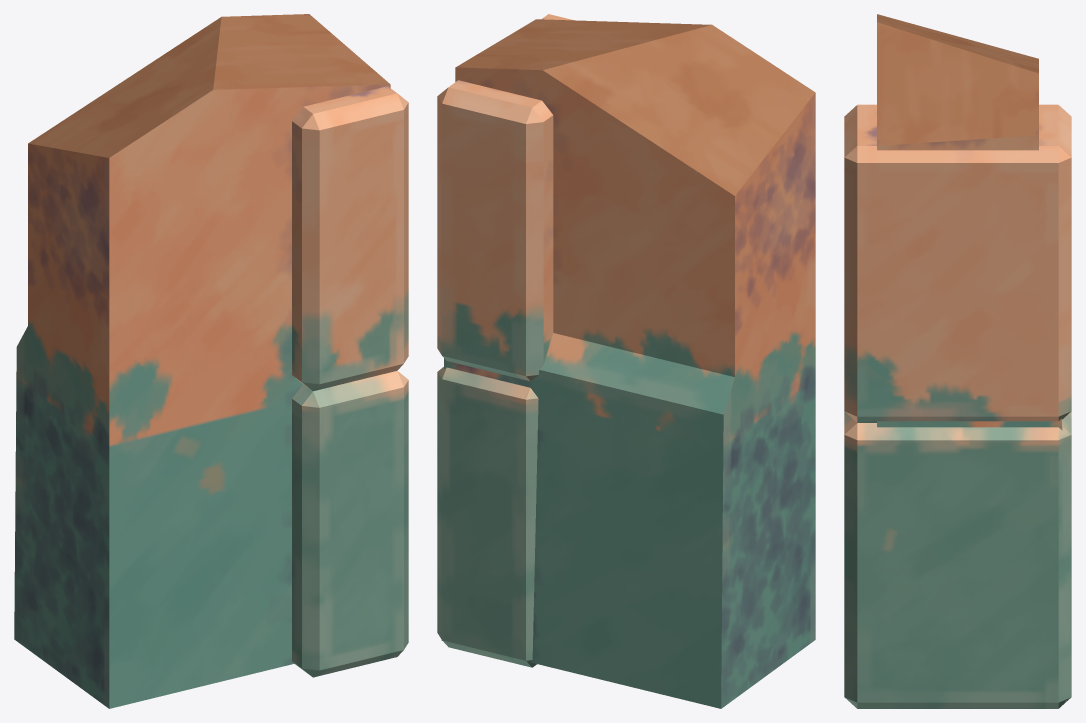
The model's file is wall_door_s01.fbx.
3 renders of one model, left to right at view 1: azimuth 30°, elevation 25°; view 2: azimuth 150°, elevation 25°; view 3: azimuth 270°, elevation 25°, orthographic.
Parts seen in each view (by area): view 1: wall_door_s01; view 2: wall_door_s01; view 3: wall_door_s01.
Part boxes in pixels (bbox=[...]): wall_door_s01: bbox=[14, 14, 408, 708]; wall_door_s01: bbox=[437, 14, 815, 708]; wall_door_s01: bbox=[844, 14, 1071, 708].
Bounding box in the file's own units: 2.06 × 4.09 × 1.4.
